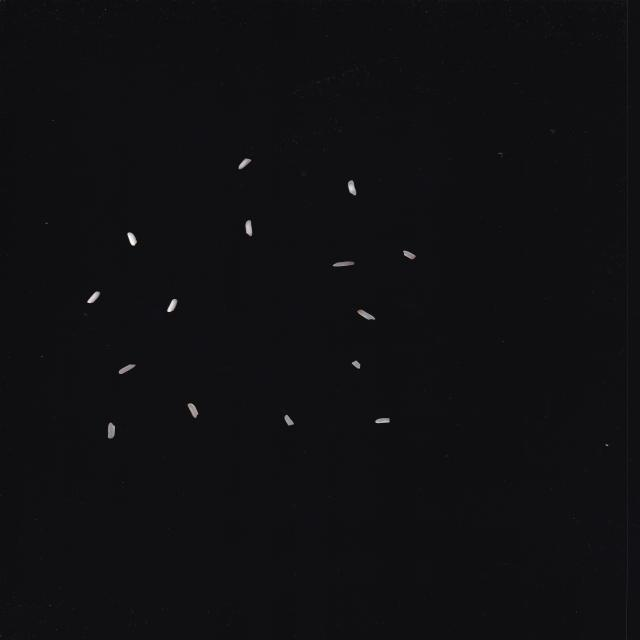Chalky: (238, 158, 252, 170), (348, 180, 357, 196), (245, 220, 253, 237)
Not: (357, 309, 376, 320), (86, 291, 100, 304), (187, 403, 199, 418), (118, 364, 136, 374), (167, 298, 178, 312), (127, 232, 138, 246), (332, 261, 355, 267), (107, 422, 115, 439), (403, 250, 416, 260), (284, 414, 294, 426), (351, 360, 361, 369), (374, 418, 390, 423)
